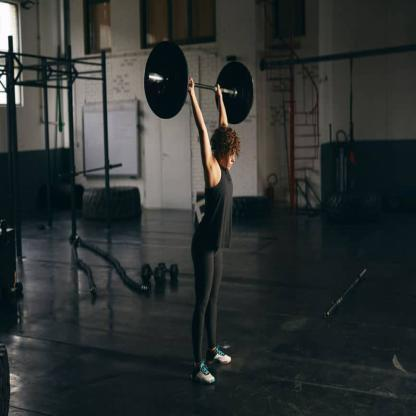barbell: (144, 40, 256, 127)
